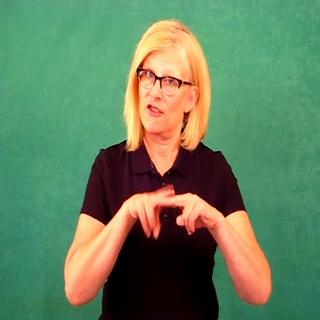chair: (121, 187, 219, 241)
